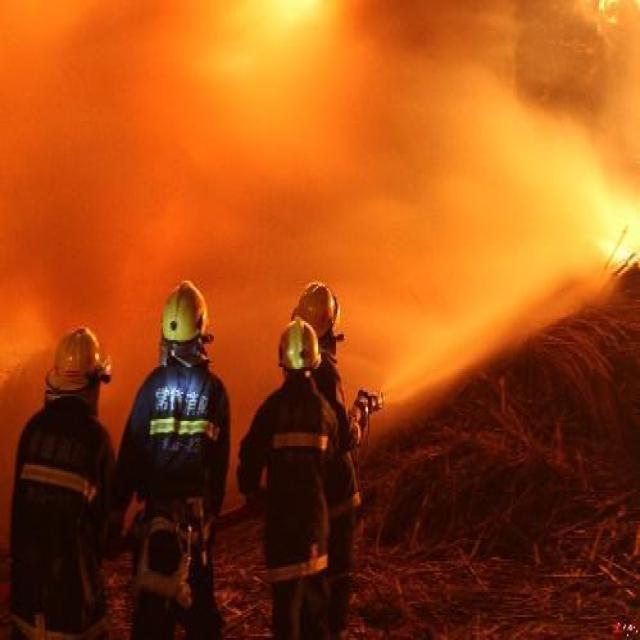other: (153, 275, 215, 341), (273, 310, 322, 376)
smoke: (2, 2, 638, 298)
